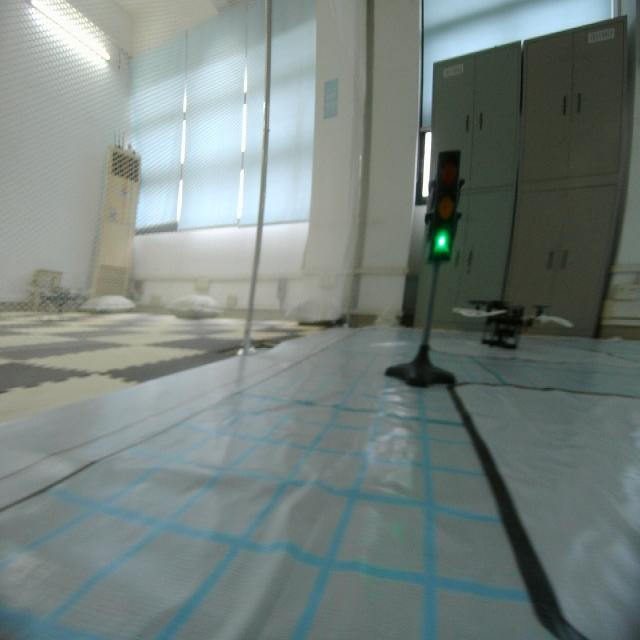green: (424, 148, 460, 265)
